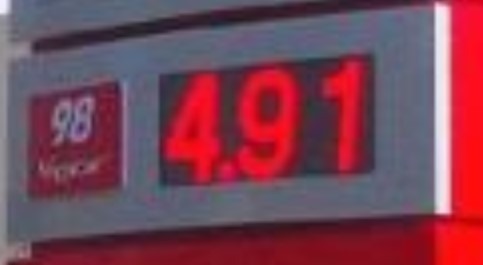digits: (235, 65, 303, 179), (160, 67, 224, 182), (312, 55, 372, 177)
